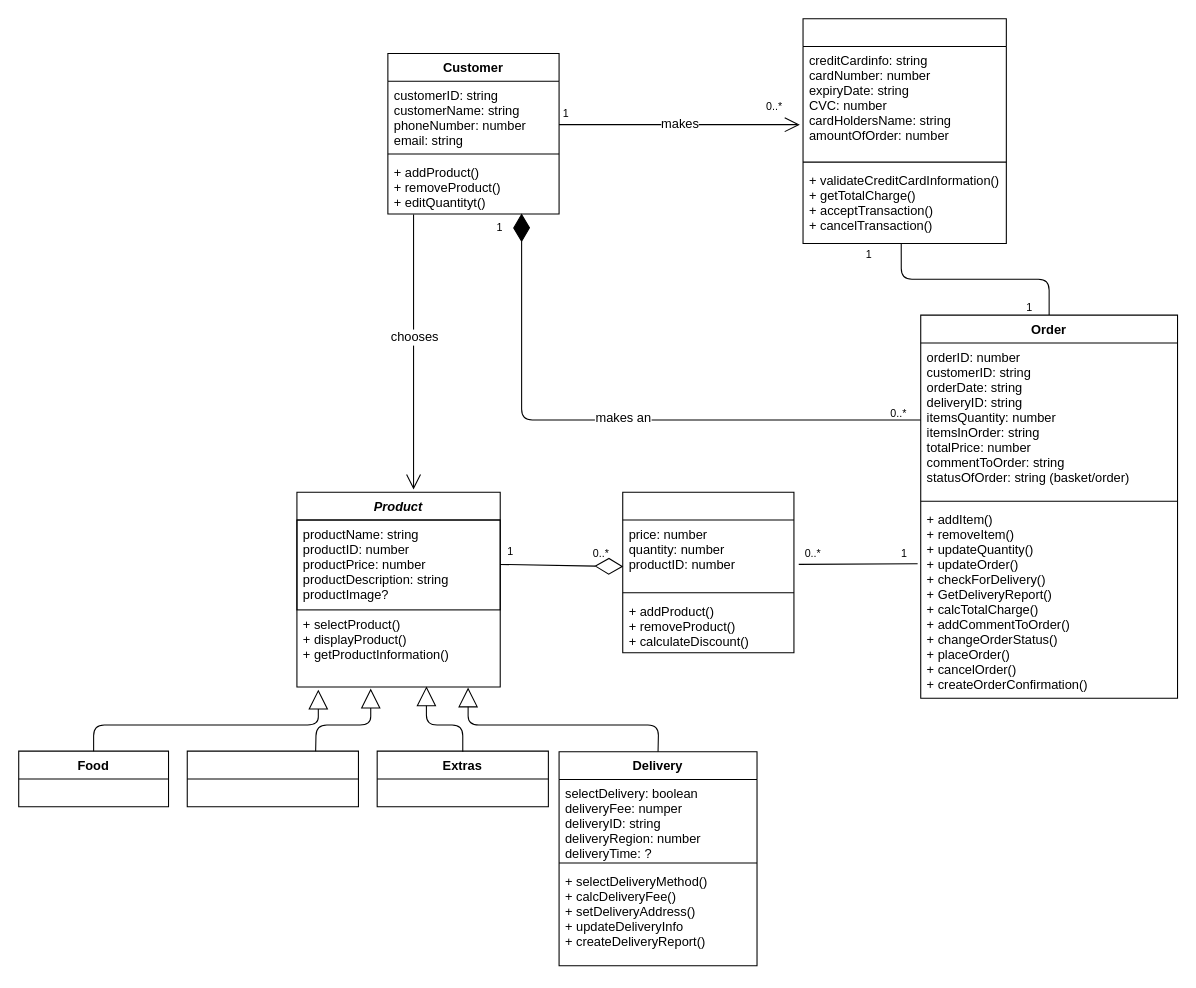
Some shapes in this 1196 by 988 pixel diagram are drawn without their labels. Here are the shapes that lost their labels. From the top down, the box of each, then its label:
(802, 18, 1006, 243): Payment
(622, 491, 794, 653): Item
(186, 750, 358, 807): Drinks
